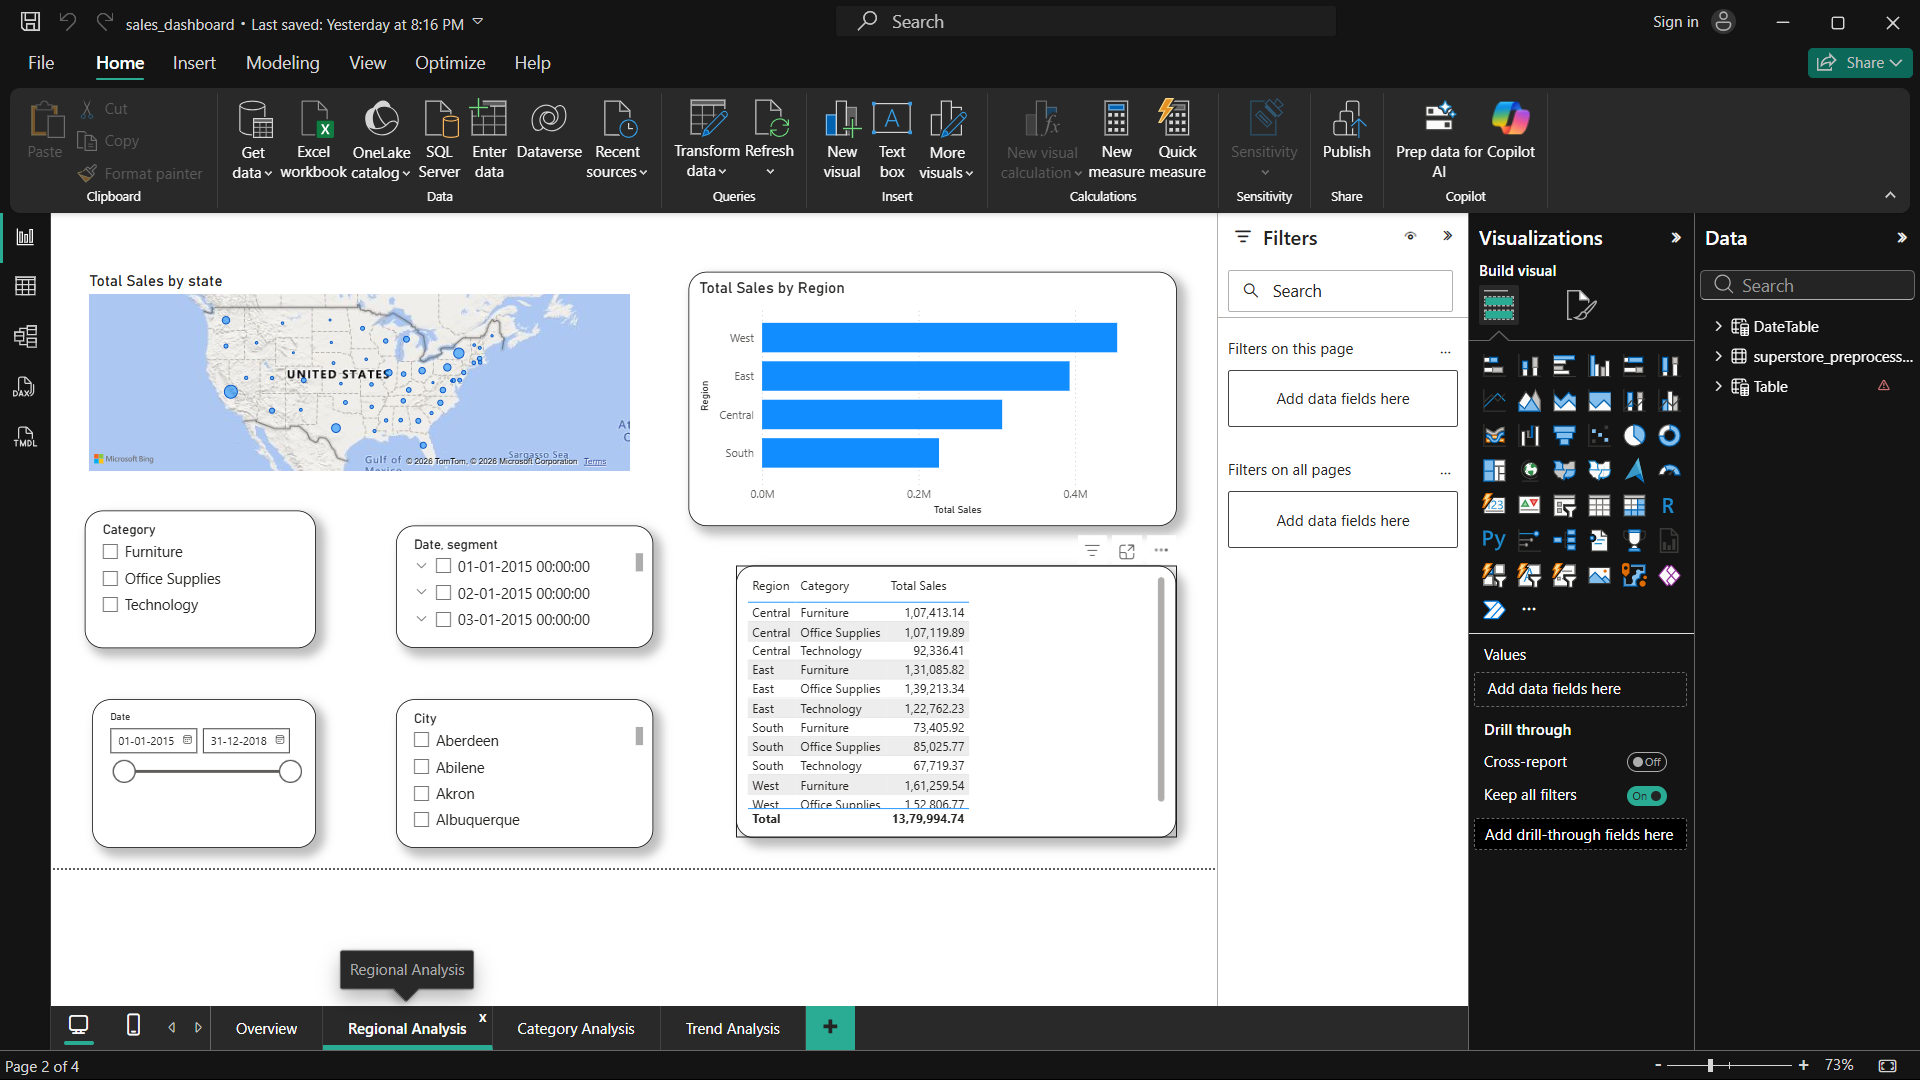

Layout of this report page (visuals, bound fields, positions):
{"tool":"powerbi","page":{"name":"Regional Analysis","canvas":[1280,720],"ordinal":1},"visuals":[{"type":"clusteredBarChart","fields":{"Category":["superstore_preprocessed.region"],"Y":["DateTable.Total Sales"]},"box":[699.6,64.7,536.2,279.1],"z":0},{"type":"tableEx","fields":{"Values":["superstore_preprocessed.region","superstore_preprocessed.category","DateTable.Total Sales"]},"box":[752.3,386.4,483.4,299.6],"z":1000},{"type":"slicer","fields":{"Values":["superstore_preprocessed.category"]},"box":[37,326.6,253.9,150.9],"z":2000},{"type":"slicer","fields":{"Values":["DateTable.Date","superstore_preprocessed.segment"]},"box":[378.7,343.1,282.7,134.5],"z":3000},{"type":"slicer","fields":{"Values":["superstore_preprocessed.city"]},"box":[378.7,533.8,282.7,163.3],"z":4000},{"type":"slicer","fields":{"Values":["DateTable.Date"]},"box":[45.3,533.8,245.6,163.3],"z":5000},{"type":"map","fields":{"Size":["DateTable.Total Sales"],"Category":["superstore_preprocessed.state"]},"box":[37.4,64.7,602.6,224.7],"z":6000}]}

Visuals, with their boxes on the page's 1280x720 design canvas (x1, y1, x2, y2). These are canvas units, not pixel positions in the 1920x1080 screenshot, which may show the page scaled, cropped or inside an application window:
clusteredBarChart - superstore_preprocessed.region x DateTable.Total Sales: box=[700, 65, 1236, 344]
tableEx - superstore_preprocessed.region x superstore_preprocessed.category: box=[752, 386, 1236, 686]
slicer - superstore_preprocessed.category: box=[37, 327, 291, 478]
slicer - DateTable.Date x superstore_preprocessed.segment: box=[379, 343, 661, 478]
slicer - superstore_preprocessed.city: box=[379, 534, 661, 697]
slicer - DateTable.Date: box=[45, 534, 291, 697]
map - DateTable.Total Sales x superstore_preprocessed.state: box=[37, 65, 640, 289]
